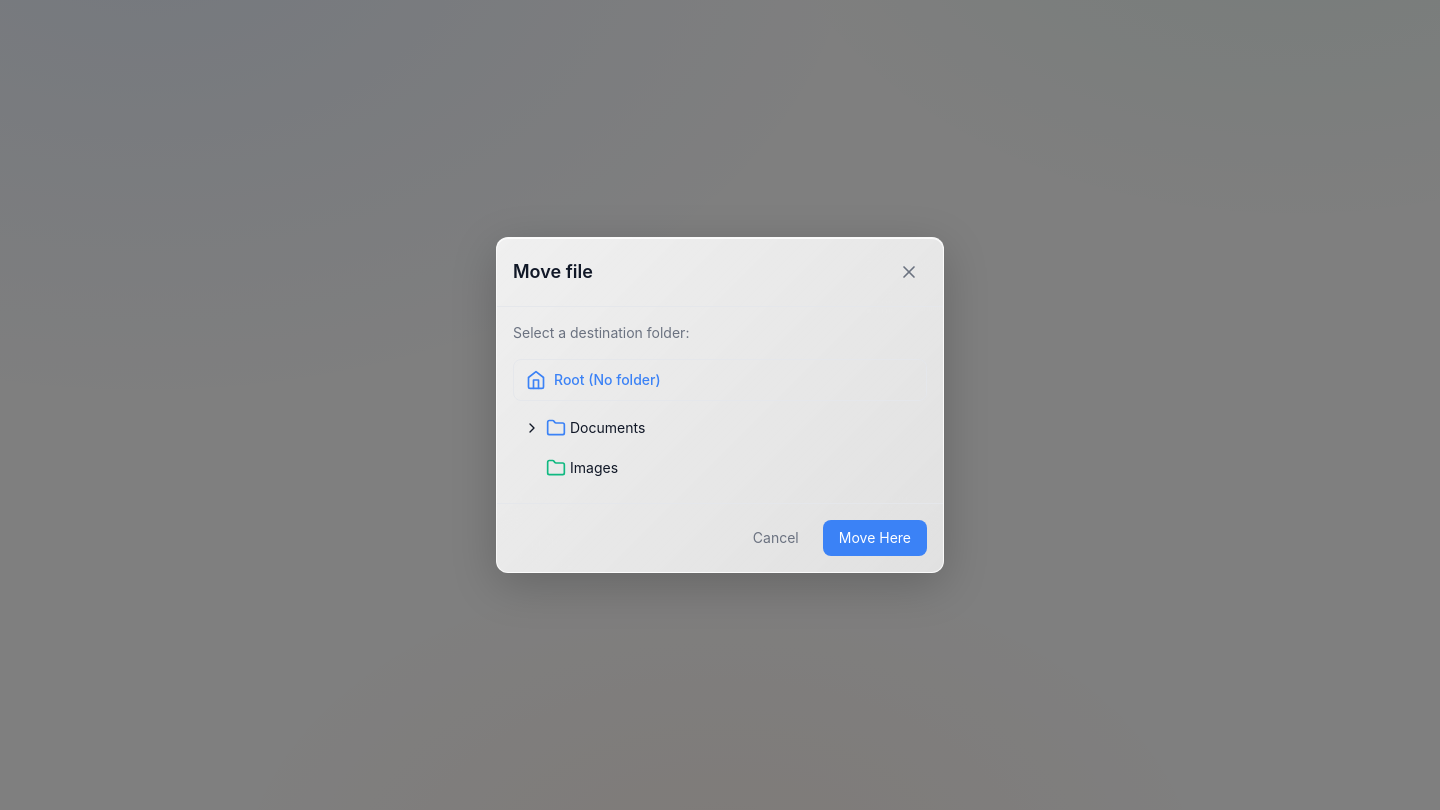
Scenario: FileMoveModal › expands and collapses folder tree
This screenshot has width=1440, height=810.
Expected: the text "Work" is not shown
// Click expand button on Documents folder
Step 1. Click the button without text next to "Documents" → {"x": 532, "y": 428}, box [522, 418, 542, 438]
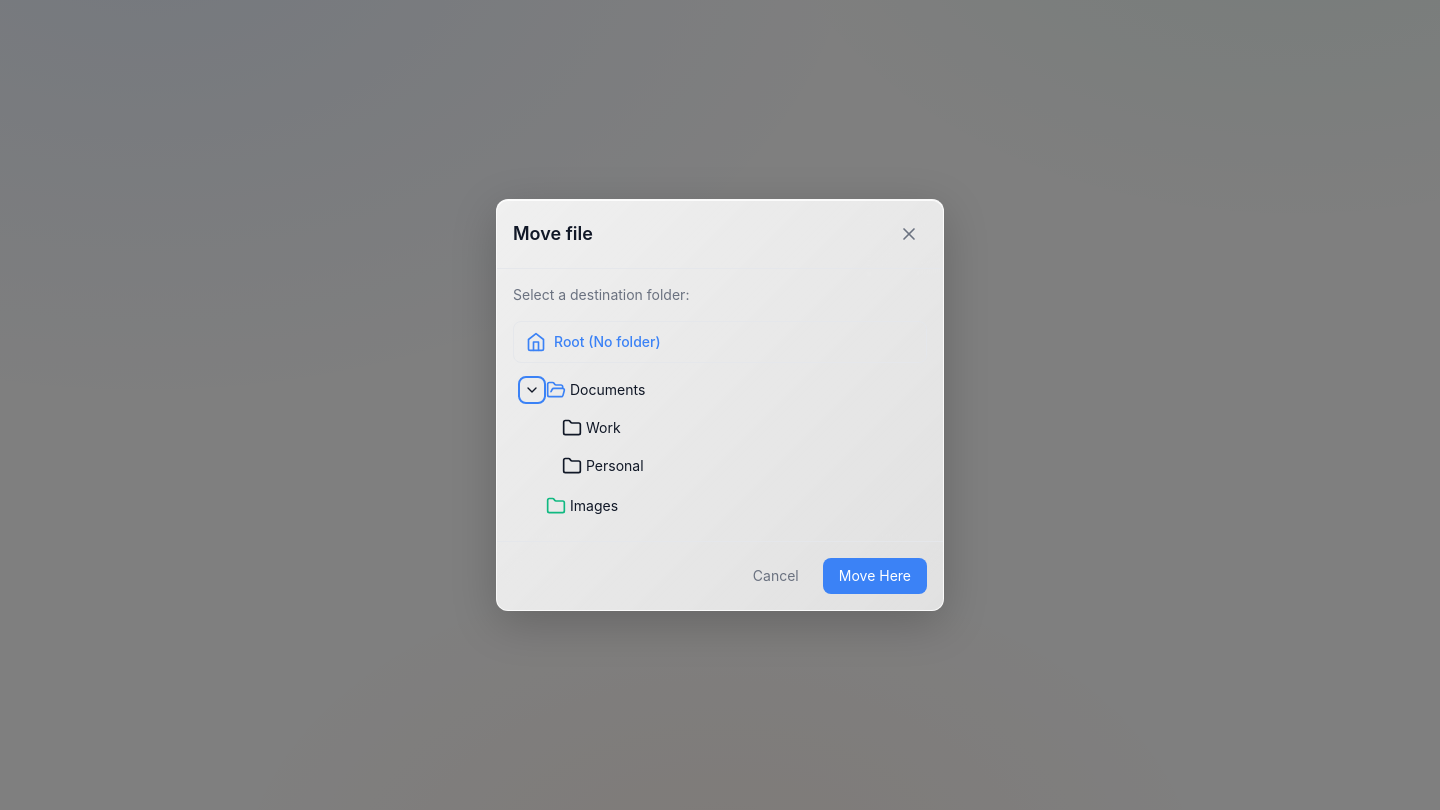
Expected: the text "Work" is shown, [586, 419, 621, 436]
Expected: the text "Personal" is shown, [586, 457, 644, 474]
